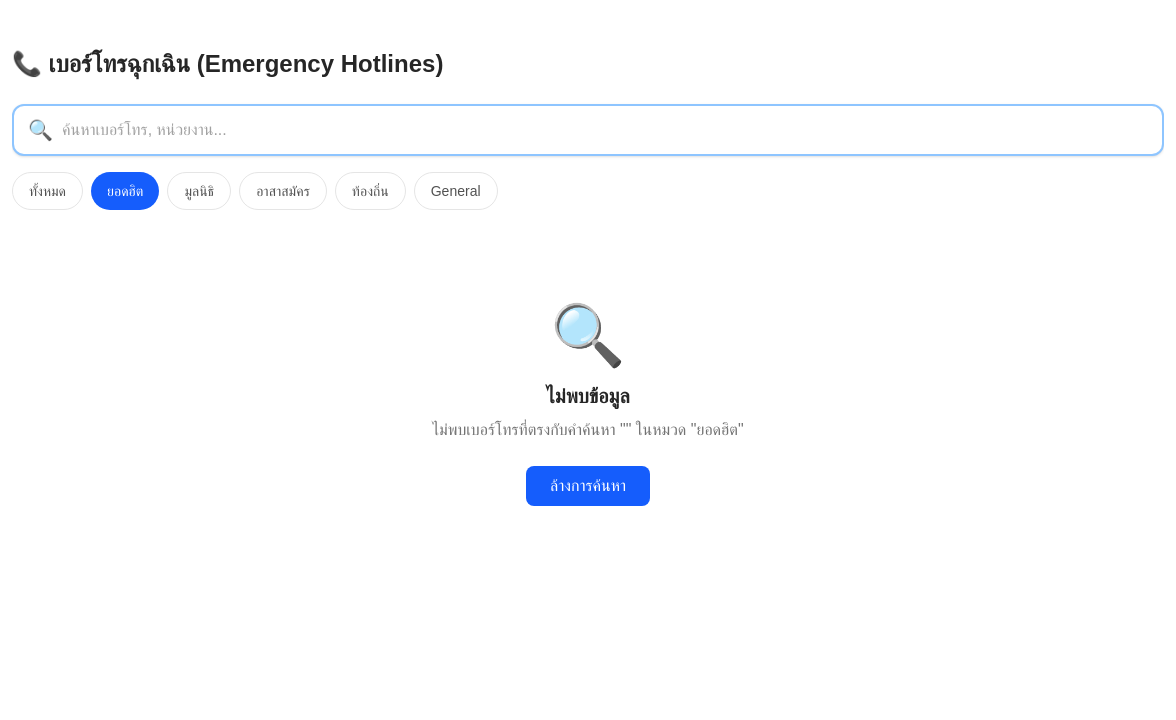
Test case: HotlinesSection › resets pagination when filter changes
// Switch to 'ทั้งหมด'
Step 1. Click the button "ทั้งหมด" → {"x": 48, "y": 191}, box [12,172,83,210]
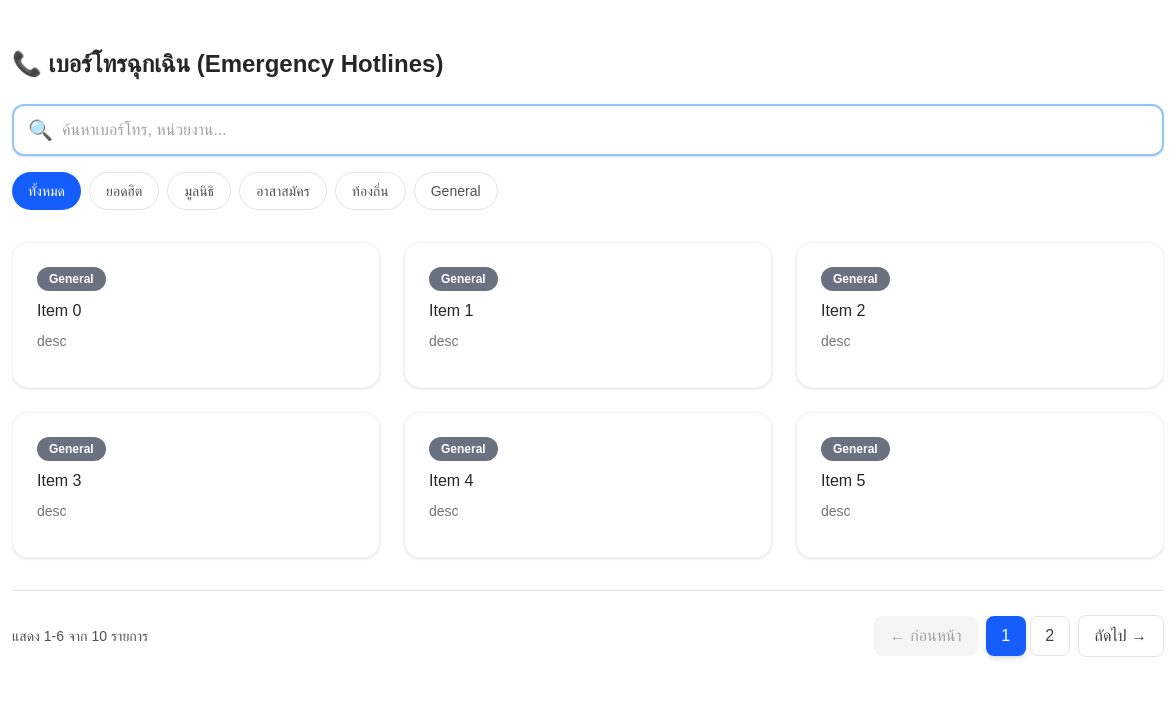
// Go to page 2
Step 2. Click the button "ถัดไป →" → {"x": 1121, "y": 636}, box [1078,615,1164,657]
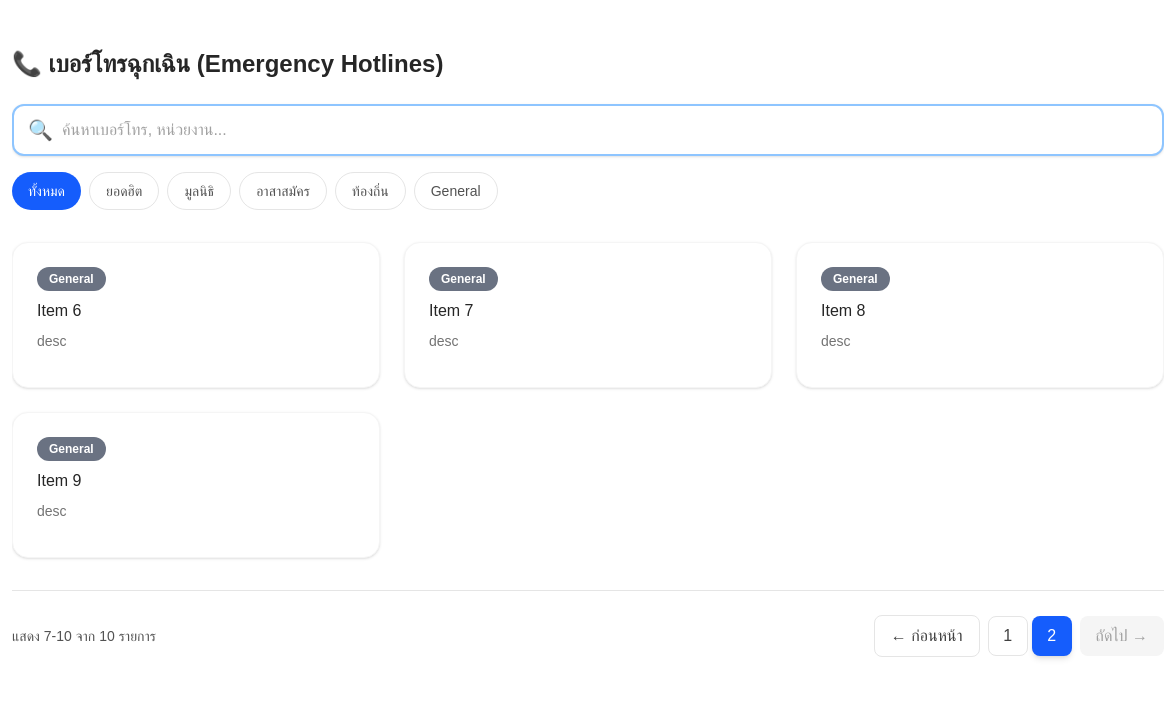
Now the text "Item 0" is gone
// Change search term
Step 3. Type "Item" into the field with placeholder "ค้นหาเบอร์โทร, หน่วยงาน..." → {"x": 588, "y": 130}, box [12,104,1164,156]
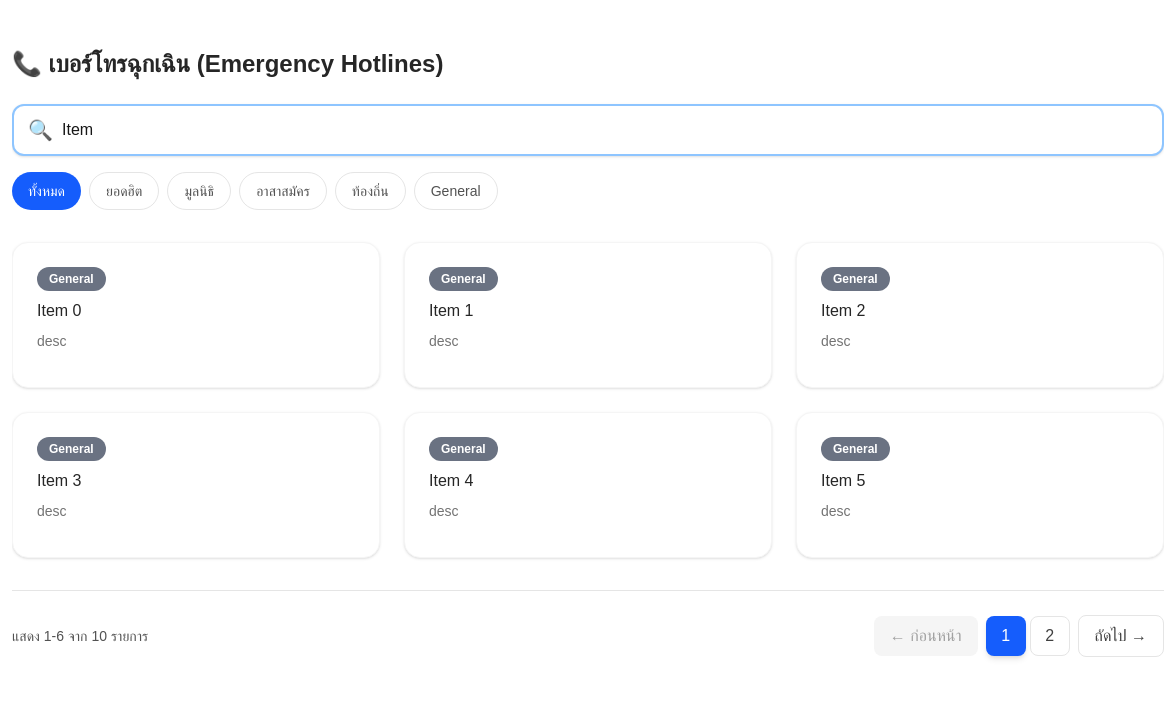
Now the text "Item 0" is shown, box [37,302,82,319]
